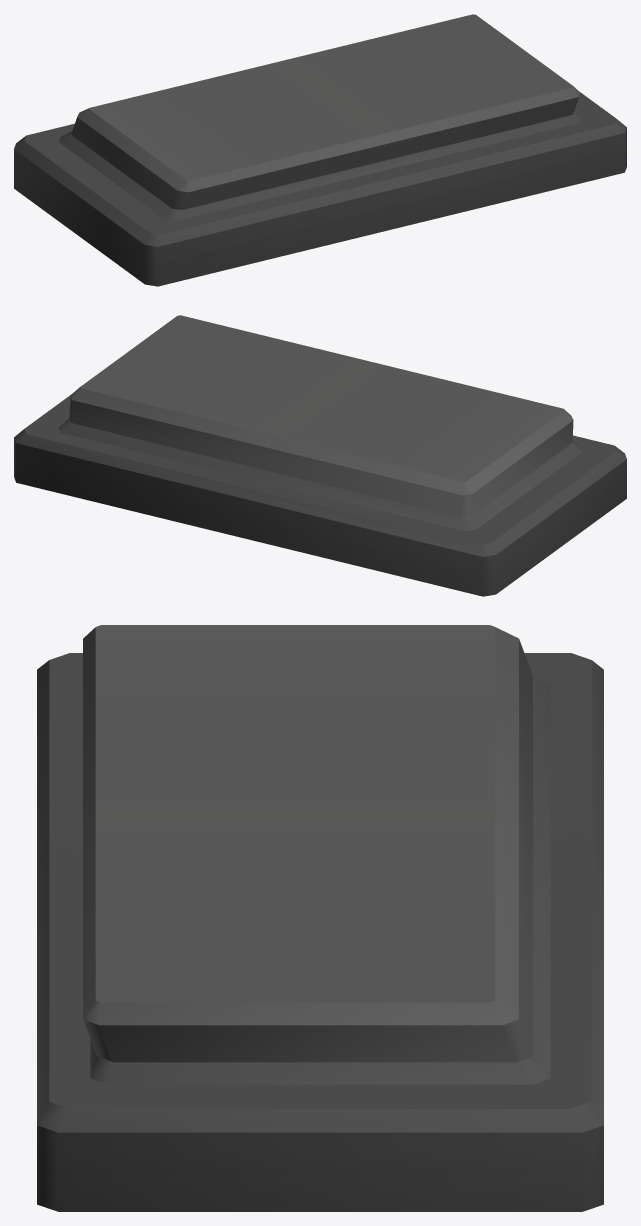
File: Grave_2_1.glb
3 views of the same model, one above another, from view 1: azimuth 30°, elevation 25°; view 2: azimuth 150°, elevation 25°; view 3: azimuth 270°, elevation 25° (orthographic). The views are drawn at different scales.
Visible parts, largest first — view 1: Grave_2_1; view 2: Grave_2_1; view 3: Grave_2_1.
Boxes of the visible parts, <box> form: Grave_2_1: <box>14,14,626,286</box>; Grave_2_1: <box>14,315,626,596</box>; Grave_2_1: <box>37,625,603,1211</box>.
Bounding box in the file's own units: 1.69 × 0.2801 × 0.8601.
1 material, 1 textured.
